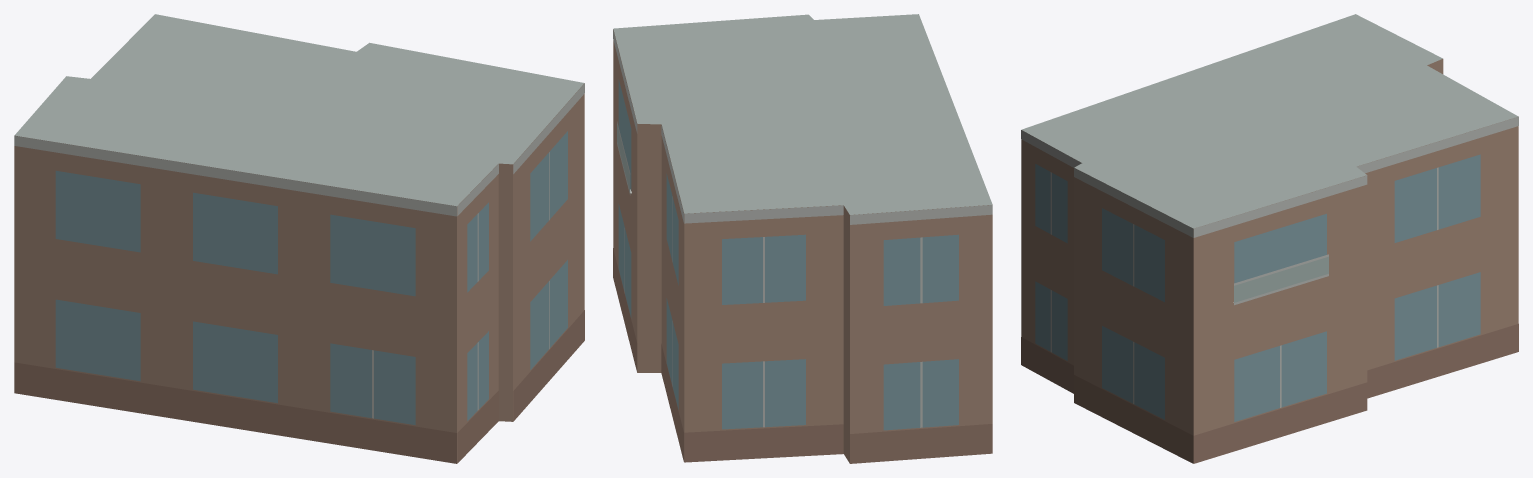
File: survey-upis-32500989.glb
3 views of the same model, side by side, from view 1: azimuth 30°, elevation 25°; view 2: azimuth 150°, elevation 25°; view 3: azimuth 270°, elevation 25° (orthographic). The views are drawn at different scales.
Parts seen in each view (by area): view 1: survey-upis-32500989.tmp; view 2: survey-upis-32500989.tmp; view 3: survey-upis-32500989.tmp.
Part boxes in pixels (bbox=[...]): survey-upis-32500989.tmp: bbox=[14, 14, 584, 463]; survey-upis-32500989.tmp: bbox=[613, 14, 992, 463]; survey-upis-32500989.tmp: bbox=[1021, 14, 1518, 463].
Size of the model in its own units: 11.95 by 6.1 by 11.7.
